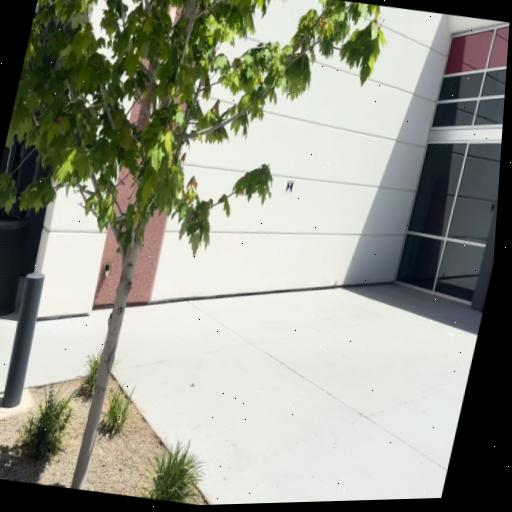target0: (284, 177, 294, 194)
